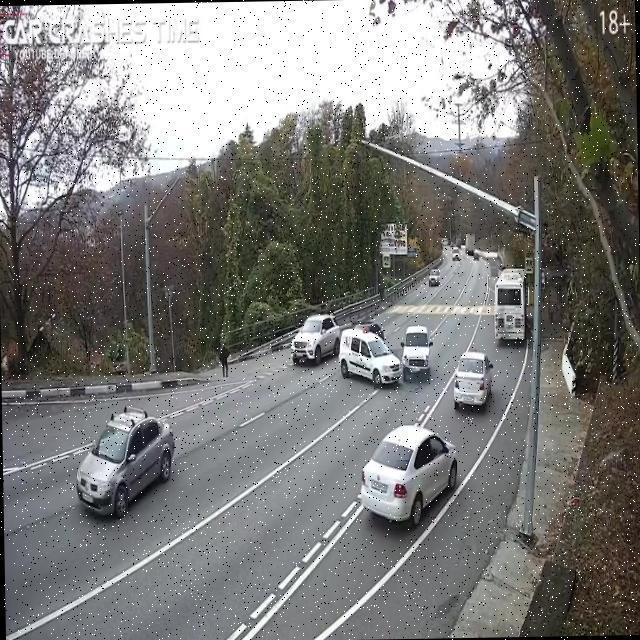accident: (334, 311, 435, 395)
